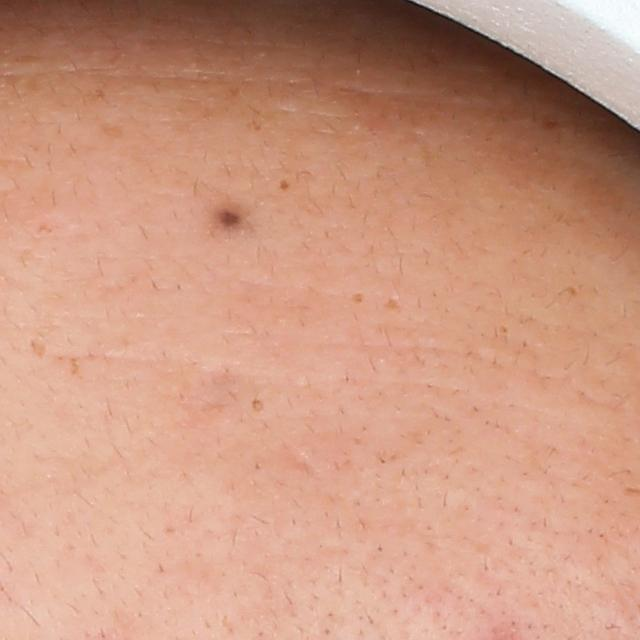atrophic_scar: (30, 336, 47, 360), (382, 295, 403, 312)
comedo: (248, 397, 268, 416), (276, 175, 294, 194), (348, 289, 367, 302)
nevus: (213, 203, 244, 230)
